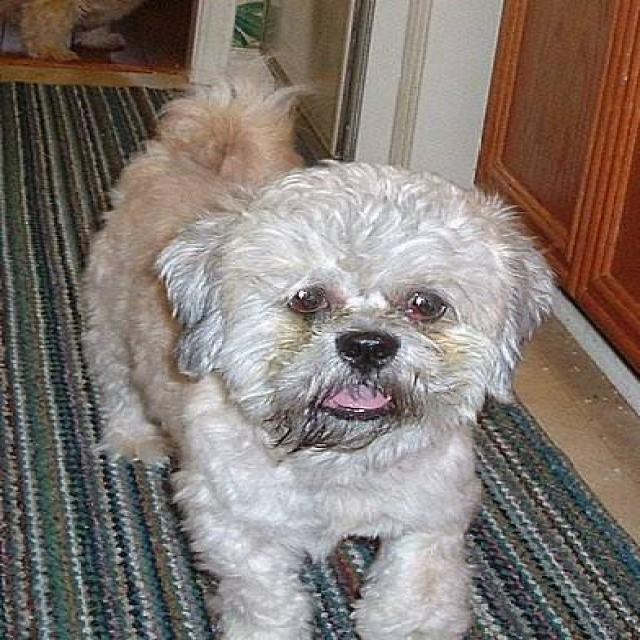dogs: (80, 73, 502, 640)
